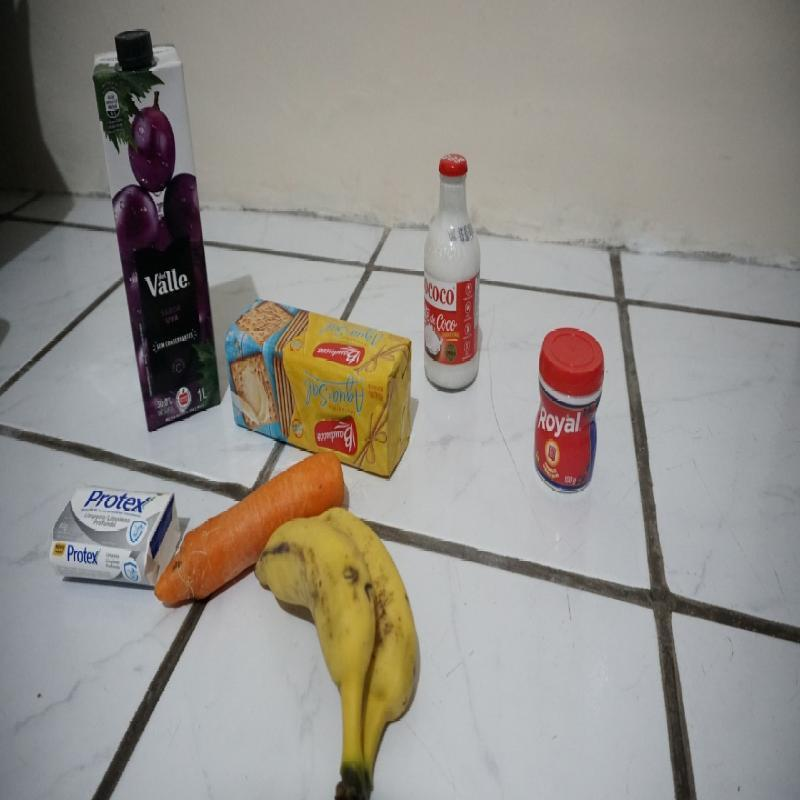Banana: (255, 503, 420, 800)
Carrot: (156, 447, 347, 604)
Coconut Milk: (424, 153, 481, 393)
Cracker: (228, 301, 411, 480)
Soap: (52, 486, 180, 586)
Yeast: (534, 326, 603, 490)
